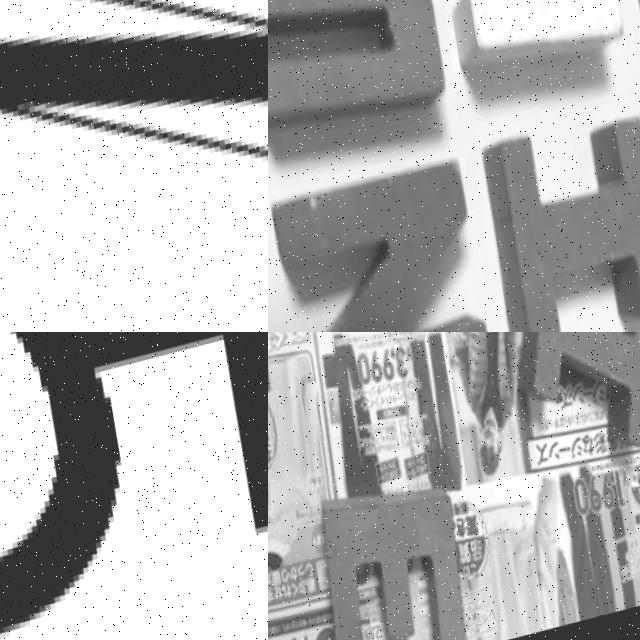5: (0, 332, 268, 640)
E: (307, 472, 489, 640)
H: (428, 0, 631, 92)
I: (479, 121, 640, 332), (505, 332, 640, 486)
M: (268, 0, 459, 160)
N: (268, 152, 506, 332)
W: (0, 0, 268, 332)
